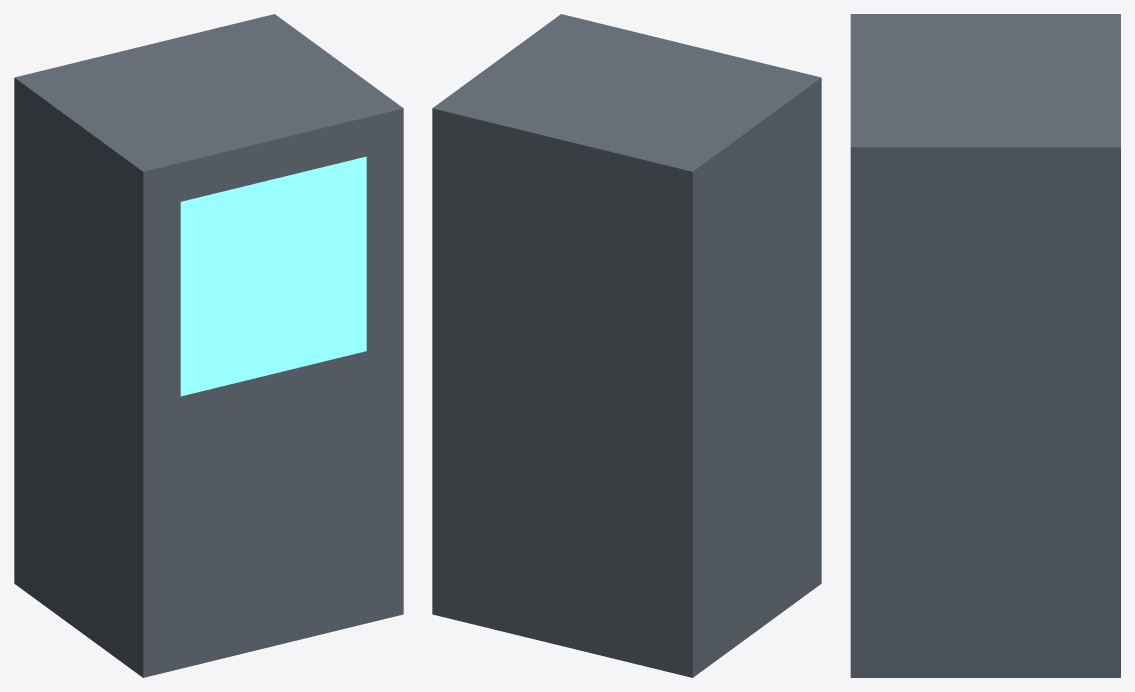
The model's file is prop_terminal.glb.
3 renders of one model, left to right at view 1: azimuth 30°, elevation 25°; view 2: azimuth 150°, elevation 25°; view 3: azimuth 270°, elevation 25°, orthographic. The views are drawn at different scales.
Parts seen in each view (by area): view 1: SecurityTerminal; view 2: SecurityTerminal; view 3: SecurityTerminal.
Part boxes in pixels (x1,y1,x2,y2): SecurityTerminal: [14, 14, 403, 677]; SecurityTerminal: [432, 14, 821, 677]; SecurityTerminal: [850, 14, 1120, 677].
Bounding box in the file's own units: 0.7 × 1.3 × 0.601.
